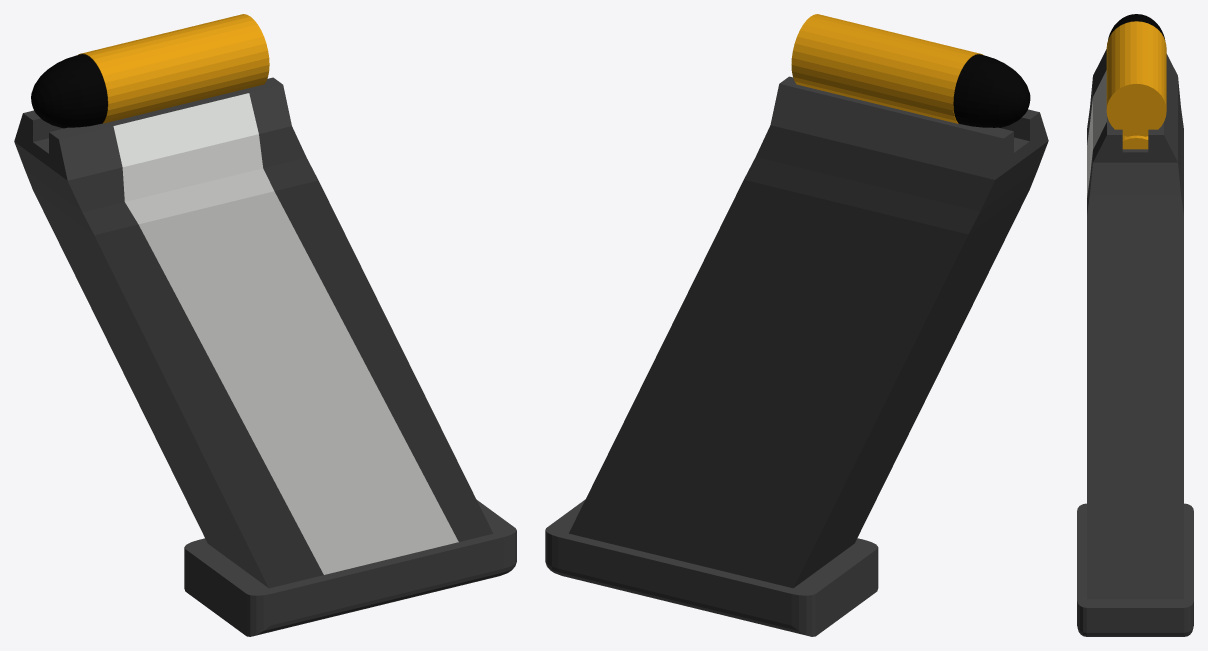
File: pistol Mag_Full.fbx
The picture shows the model from 3 angles, left to right: view 1: azimuth 30°, elevation 25°; view 2: azimuth 150°, elevation 25°; view 3: azimuth 270°, elevation 25°; orthographic projection. The views are drawn at different scales.
Parts seen in each view (by area): view 1: mag, Case, bullet; view 2: mag, Case, bullet; view 3: mag, Case, Case.001, bullet.
Boxes of the visible parts, box(x1,y1,x2,y2) form: mag: box(14, 77, 516, 636); Case: box(78, 14, 269, 123); bullet: box(31, 54, 107, 128); mag: box(545, 76, 1048, 636); Case: box(791, 14, 982, 123); bullet: box(953, 54, 1030, 127); mag: box(1077, 49, 1193, 636); Case: box(1106, 21, 1166, 136); Case.001: box(1122, 135, 1148, 149); bullet: box(1108, 14, 1165, 40).
Size of the model in its own units: 249 by 311 by 70.33.
